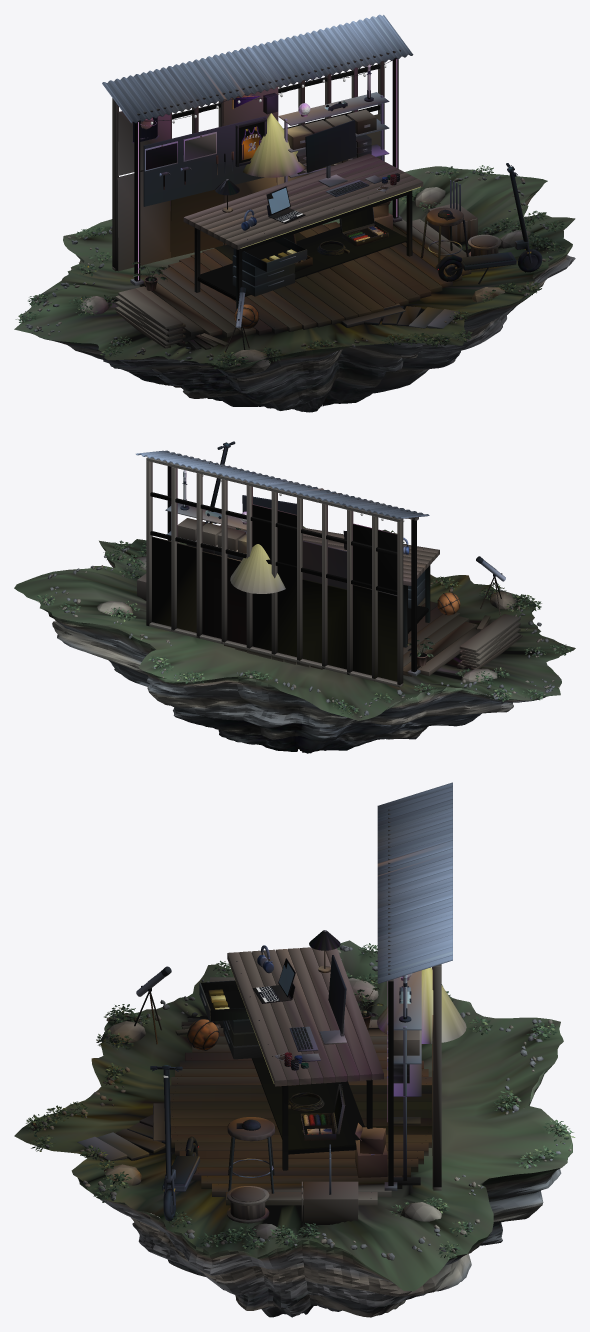
File: flight-projects-adaa87bc.glb
3 renders of one model, top to bottom at view 1: azimuth 30°, elevation 25°; view 2: azimuth 150°, elevation 25°; view 3: azimuth 270°, elevation 25°, orthographic. The views are drawn at different scales.
Visible parts, largest first — view 1: Projects island · flight.001; view 2: Projects island · flight.001; view 3: Projects island · flight.001.
Part boxes in pixels (left/top/right/bottom): Projects island · flight.001: left=14, top=14, right=575, bottom=412; Projects island · flight.001: left=14, top=441, right=575, bottom=753; Projects island · flight.001: left=14, top=782, right=575, bottom=1317.
Bounding box in the file's own units: 12.7 × 7.16 × 8.69.
